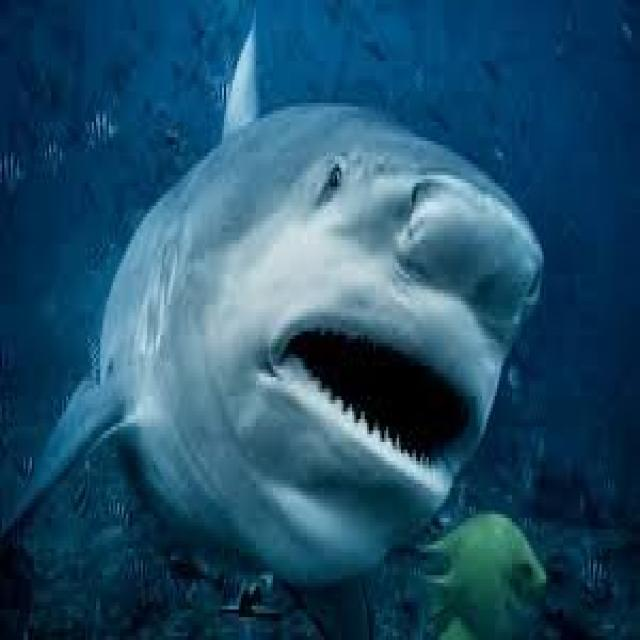shark: (2, 27, 538, 636)
